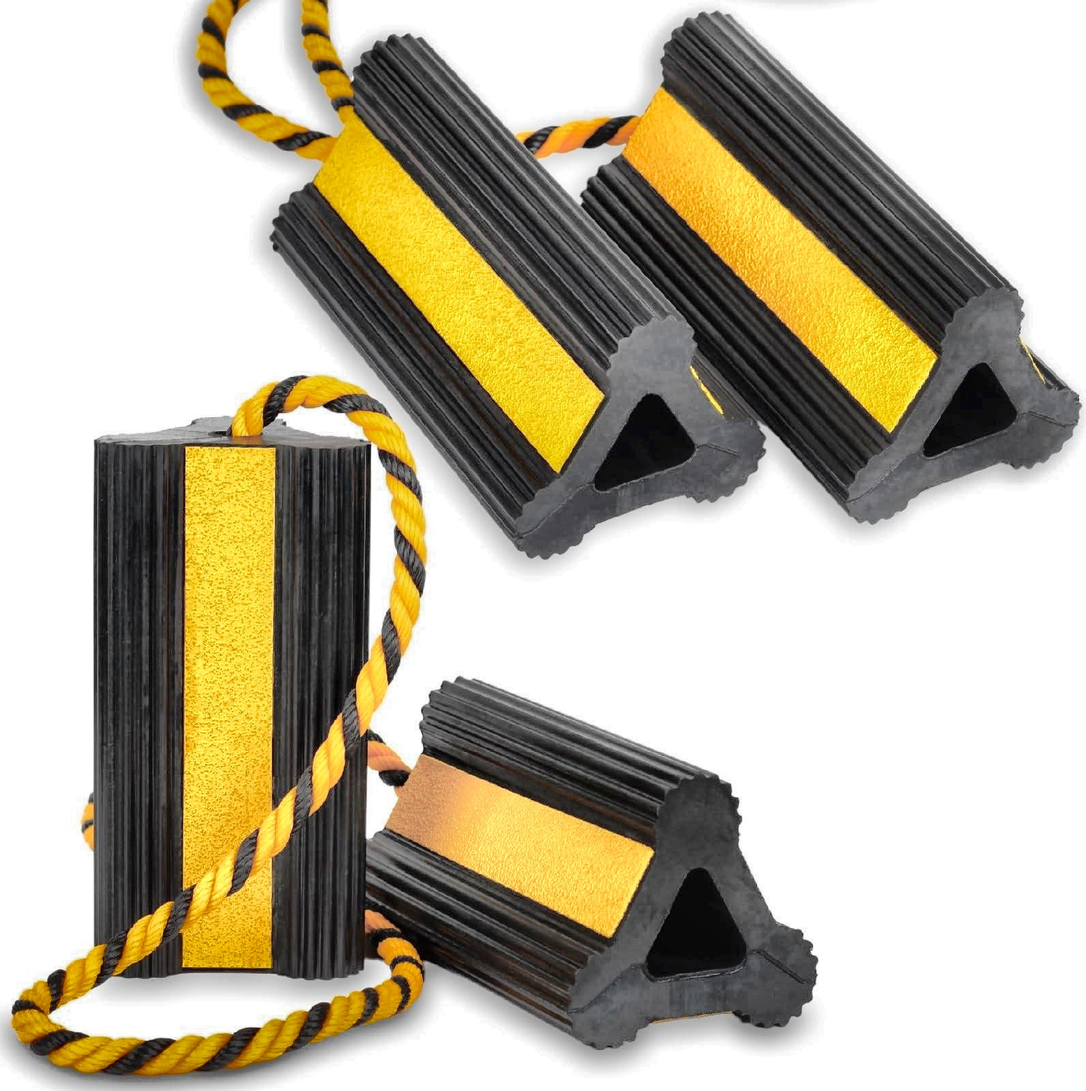chock: (578, 8, 1082, 544), (269, 33, 765, 569), (356, 671, 817, 1057), (78, 415, 375, 981)
